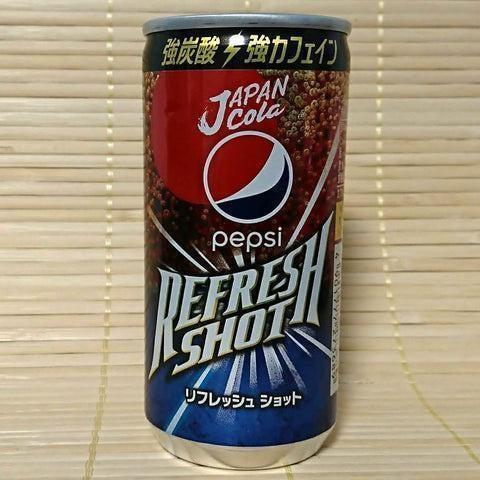tin can: (140, 11, 352, 472)
